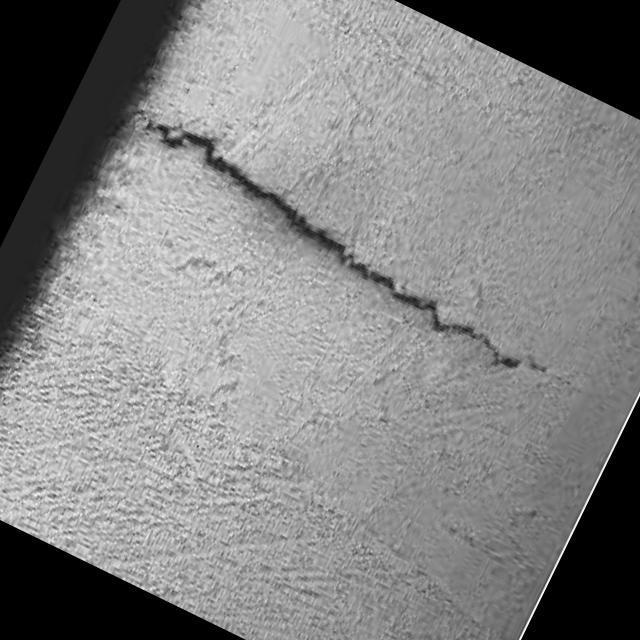defect: (140, 112, 530, 377)
